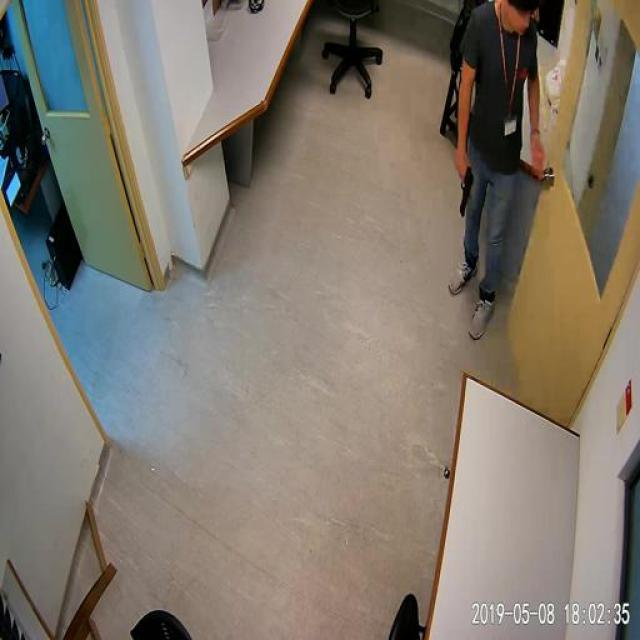Gun: (441, 153, 480, 225)
